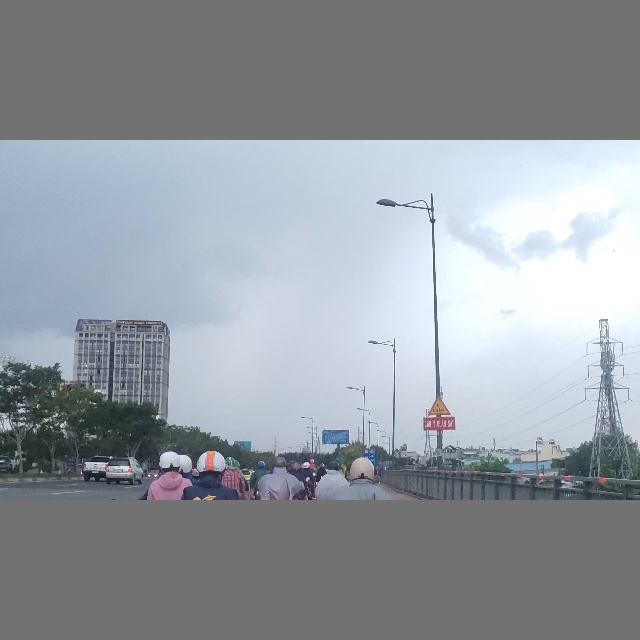W.245a: (427, 394, 451, 416)
